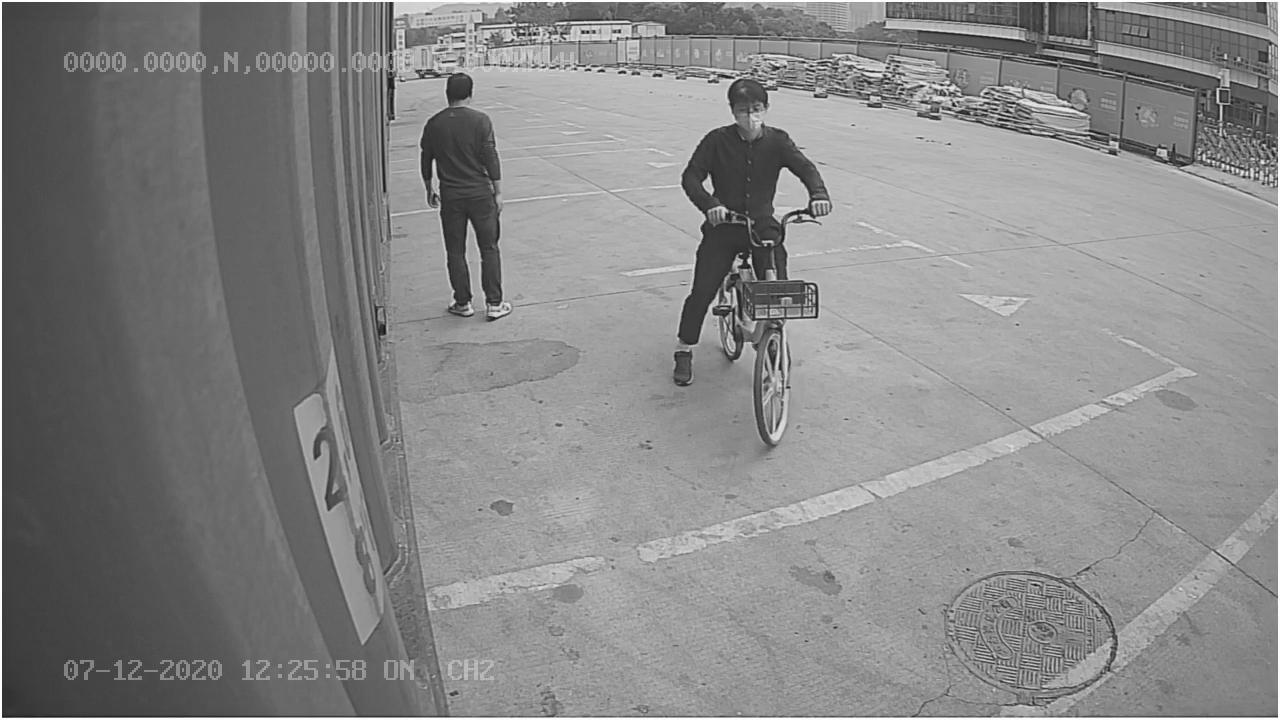person: (416, 71, 520, 325)
